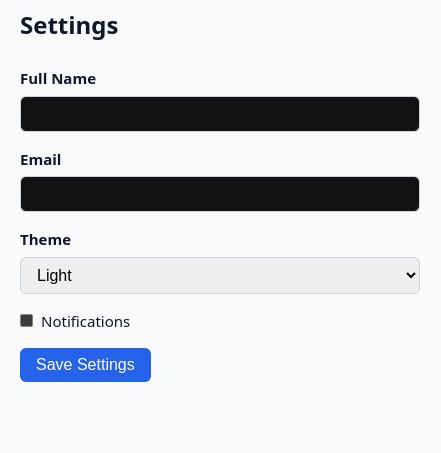
SettingsForm › shows validation errors when required fields are empty
The image size is (441, 453).
Click the button "Save Settings" at (85, 365), box [20,348,151,382]
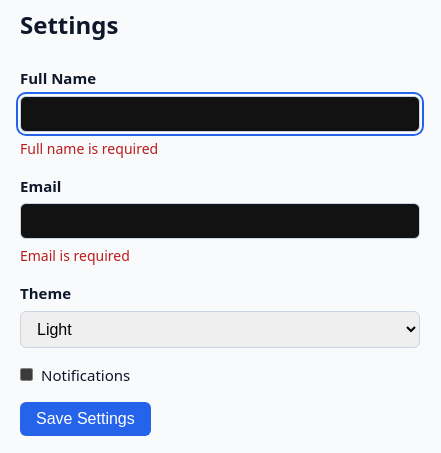
expect the text "Full name is required" is shown: met, box [20,138,158,158]
expect the text "Email is required" is shown: met, box [20,246,130,265]
